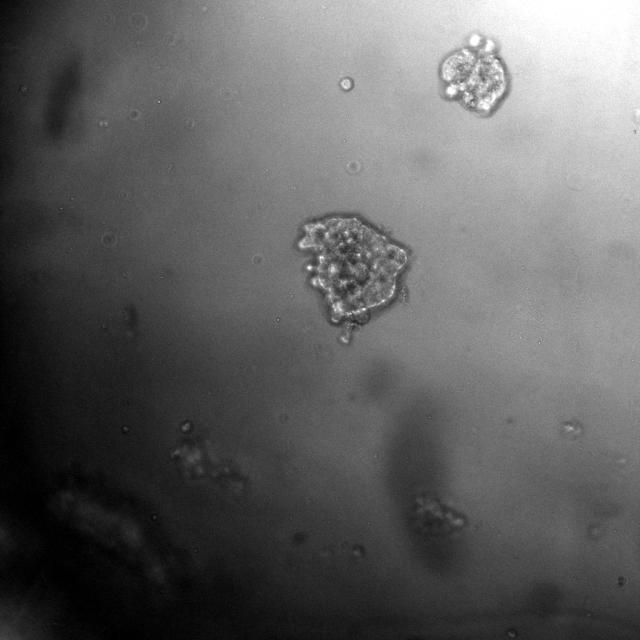organoid: (298, 214, 408, 344), (170, 419, 248, 499), (439, 34, 509, 115), (409, 492, 466, 538), (339, 76, 354, 92)
